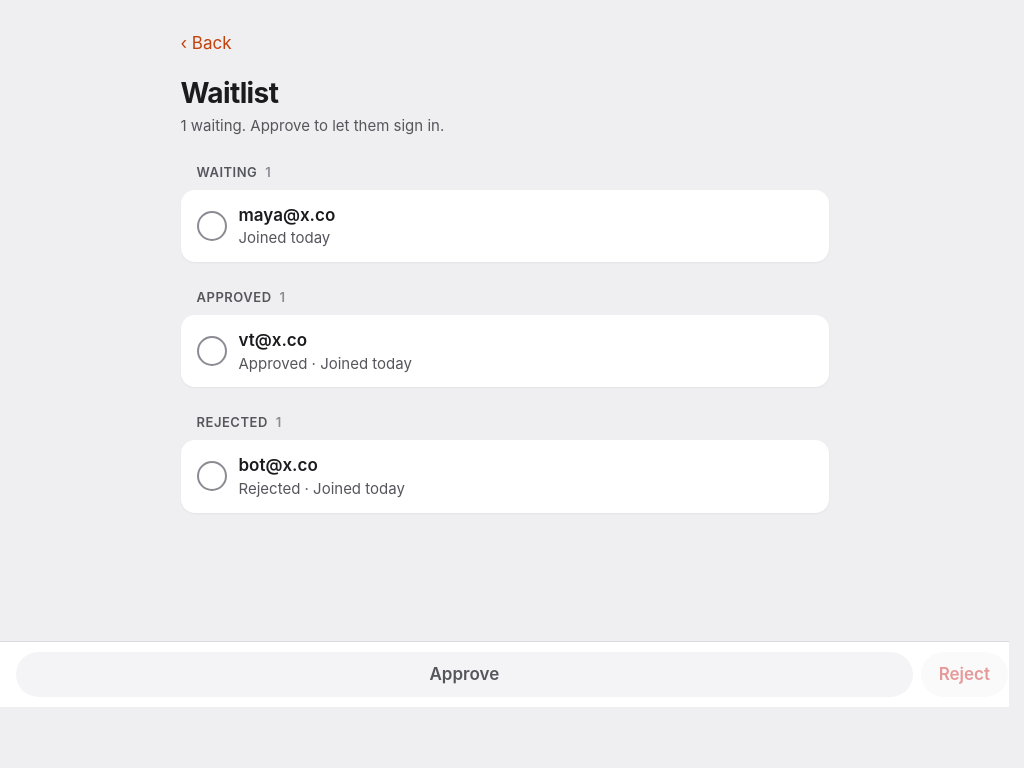
Test case: a rejected person offers Approve, Back to waiting and Delete
The width and height of the screenshot is (1024, 768).
Expected: the element with id "wl-sec-rejected" is shown, [180,414,828,513]
Click the 3rd checkbox with class "check" at point(212, 476), box [196,462,226,492]
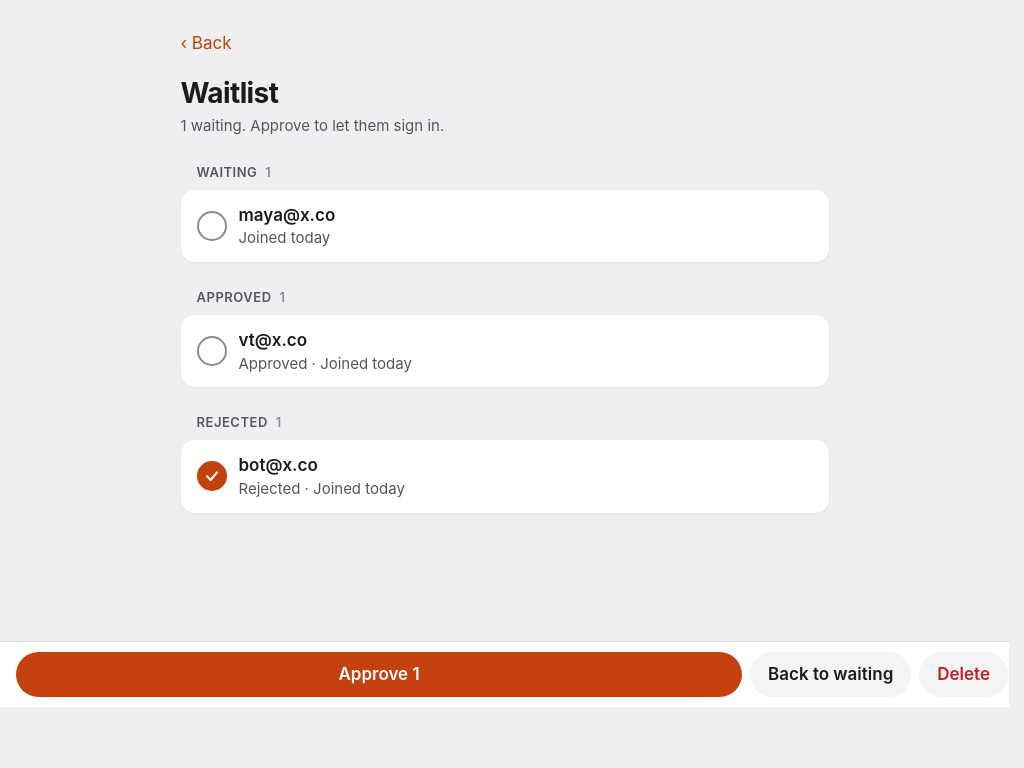
Expected: the button with id "wl-restore" is shown, [750,652,911,697]
Expected: the button with id "wl-remove" reads "Delete", [919,652,1008,697]
